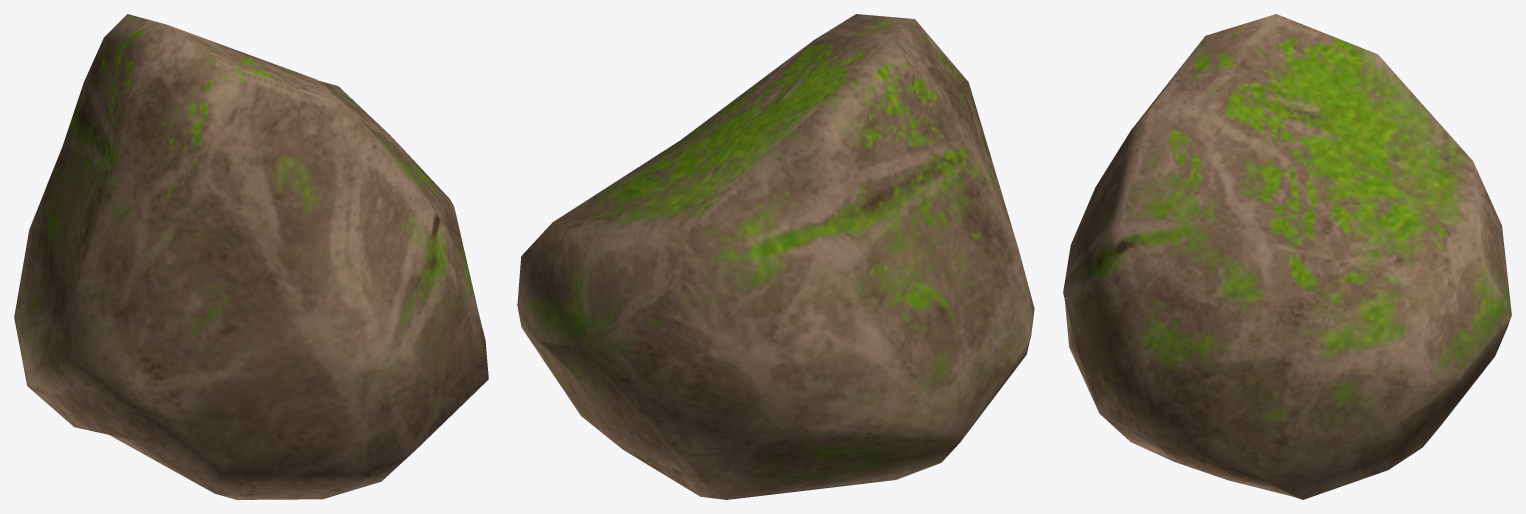
File: sb_obj_nature007_Rock03c.fbx
3 renders of one model, left to right at view 1: azimuth 30°, elevation 25°; view 2: azimuth 150°, elevation 25°; view 3: azimuth 270°, elevation 25°, orthographic. The views are drawn at different scales.
Parts seen in each view (by area): view 1: sb_obj_nature007_Rock03c; view 2: sb_obj_nature007_Rock03c; view 3: sb_obj_nature007_Rock03c.
Boxes of the visible parts, <box> form: sb_obj_nature007_Rock03c: <box>14,14,488,499</box>; sb_obj_nature007_Rock03c: <box>517,14,1034,499</box>; sb_obj_nature007_Rock03c: <box>1063,14,1511,499</box>.
Bounding box in the file's own units: 1.08 × 1.07 × 1.13.
